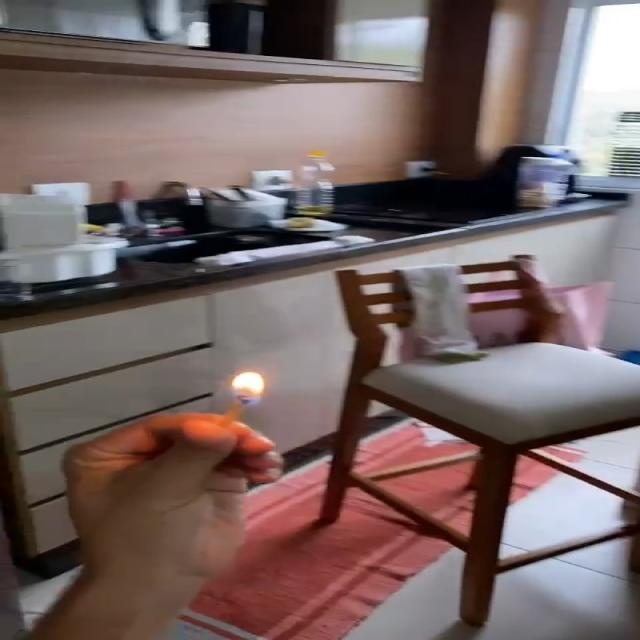fogo-ypXI: (232, 371, 264, 406)
